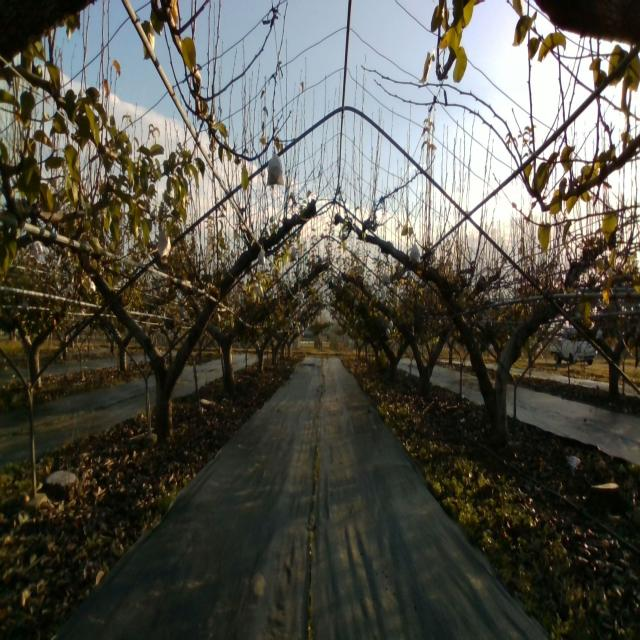pearbags: (266, 148, 285, 186), (408, 240, 421, 265), (157, 236, 171, 259)
